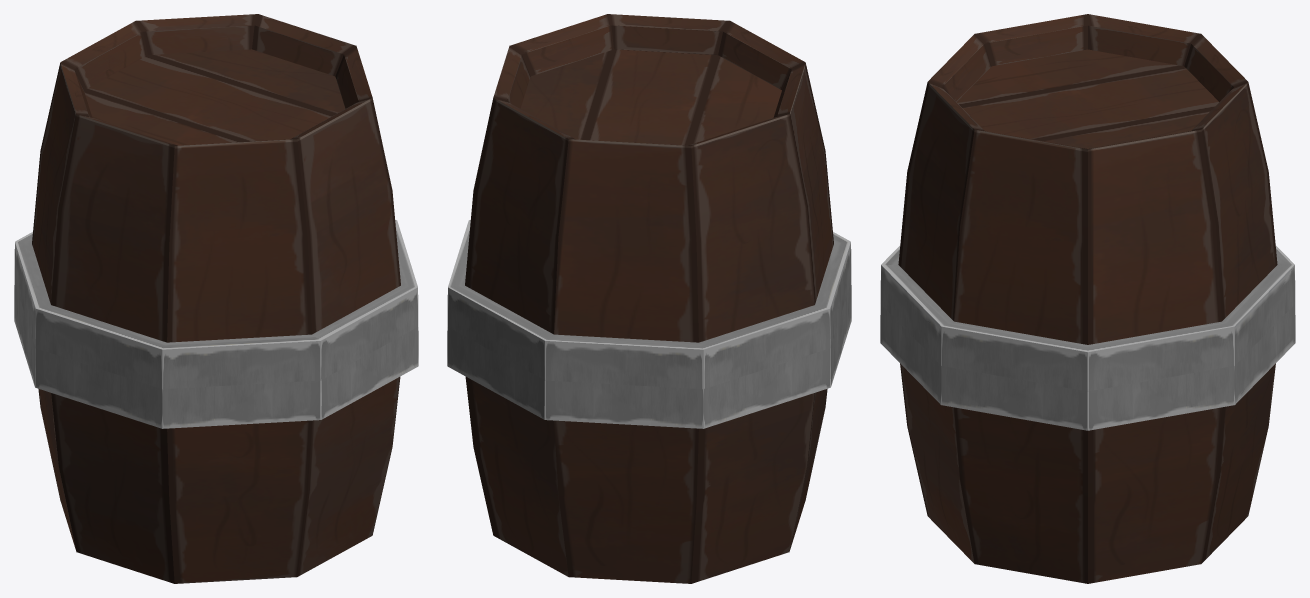
Rendered from Barrel_2.fbx.
The picture shows the model from 3 angles, left to right: view 1: azimuth 30°, elevation 25°; view 2: azimuth 150°, elevation 25°; view 3: azimuth 270°, elevation 25°; orthographic projection.
Visible parts, largest first — view 1: Barrel.001; view 2: Barrel.001; view 3: Barrel.001.
Boxes of the visible parts, x1,y1,x2,y2 form: Barrel.001: (14, 14, 418, 583); Barrel.001: (447, 14, 851, 583); Barrel.001: (880, 14, 1295, 583).
Bounding box in the file's own units: 123 × 142 × 123.
